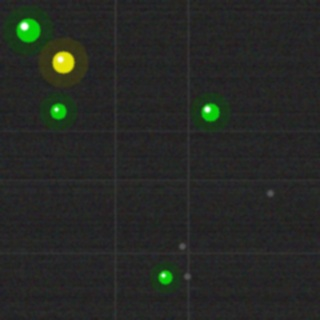green_normal: (14, 16, 42, 44), (199, 101, 221, 123), (48, 101, 68, 121), (156, 268, 174, 286)
yellow_warning: (50, 49, 76, 75)
